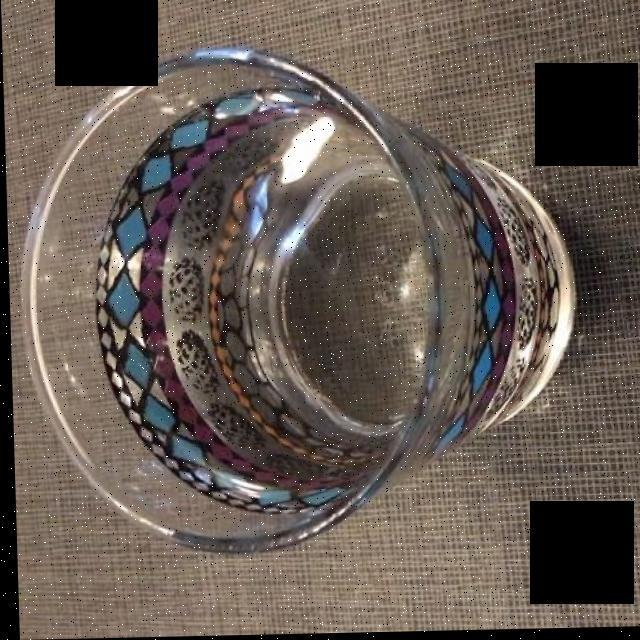water: (167, 111, 425, 460)
